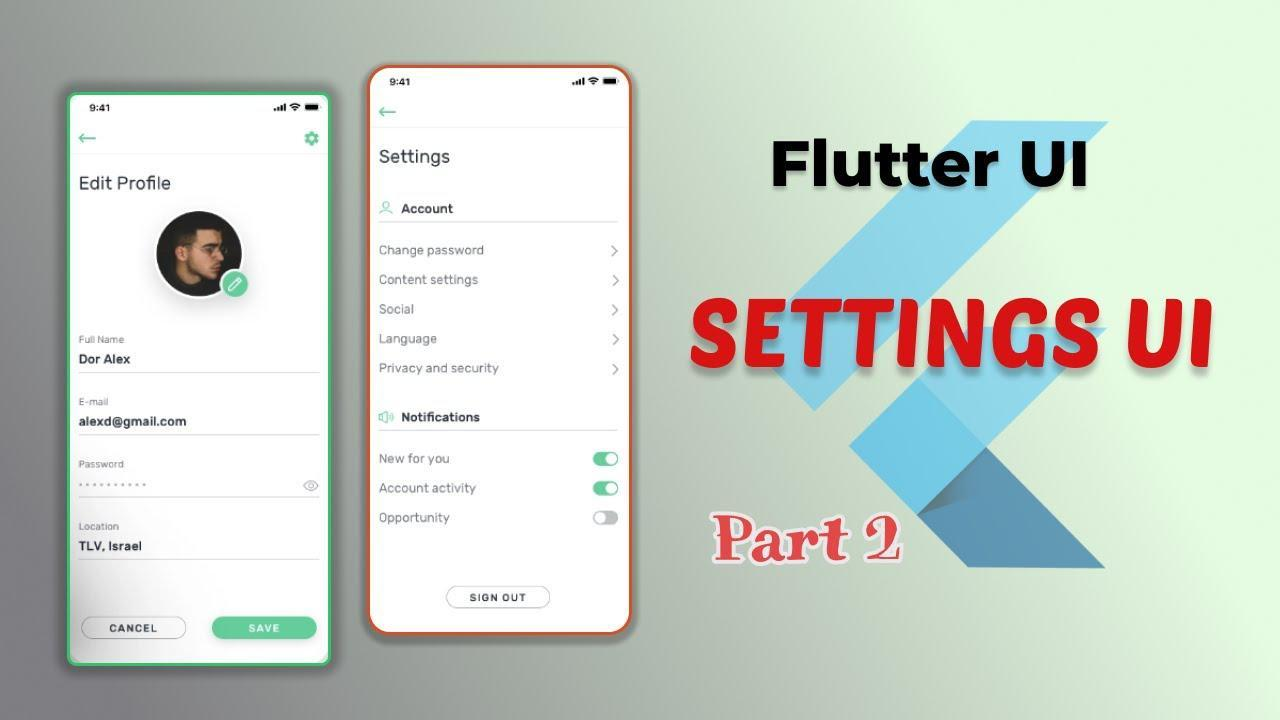button: (448, 585, 551, 611), (212, 616, 319, 640)
icon: (82, 617, 187, 640), (222, 270, 253, 302), (298, 128, 326, 154), (375, 99, 401, 127), (377, 405, 397, 430), (80, 127, 101, 150), (301, 479, 322, 494), (610, 274, 622, 292), (610, 242, 620, 262), (611, 362, 621, 380), (610, 304, 620, 321), (611, 334, 621, 350)
label: (375, 360, 505, 382), (377, 269, 484, 294), (397, 403, 485, 431), (378, 144, 454, 173), (379, 241, 488, 261), (379, 481, 481, 500), (379, 328, 454, 350), (378, 451, 454, 470), (379, 512, 452, 527), (377, 301, 428, 322), (401, 201, 458, 218), (76, 333, 134, 349), (79, 458, 132, 471), (79, 519, 125, 533), (76, 395, 114, 411), (378, 196, 395, 220)
switch: (591, 451, 623, 470), (591, 480, 622, 498), (591, 511, 622, 529)
